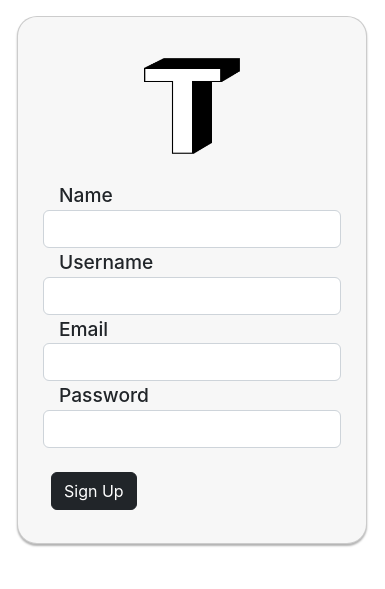
Test: Register › if one field is empty, displays an error message
The width and height of the screenshot is (385, 589).
Type "Test Name" into the field with test id "name". click: (192, 229)
box: [43,210,341,248]
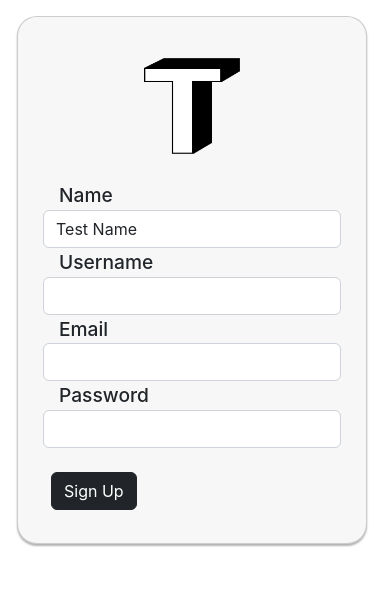
Type "Test Username" into the field with test id "username". click: (192, 296)
box: [43,277,341,315]
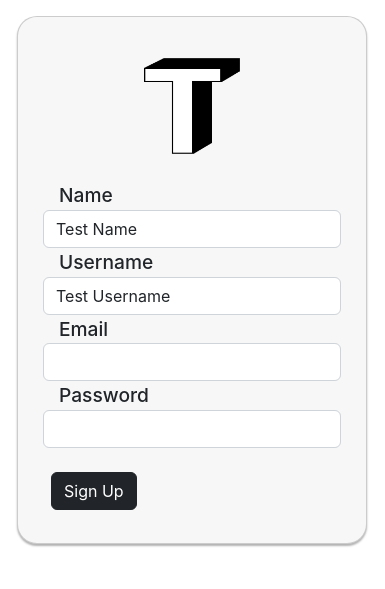
Type "Test Password" into the password field with test id "password". click: (192, 429)
box: [43,410,341,448]
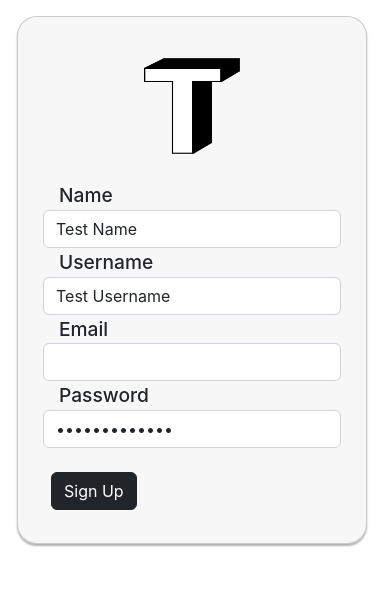
Click the button "Sign Up". click: click(94, 491)
box: [51,472,137,510]
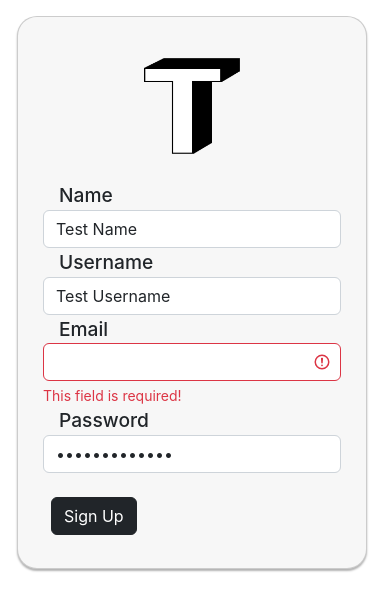
expect the text "This field is required!" is shown: met, box [43,387,182,404]
